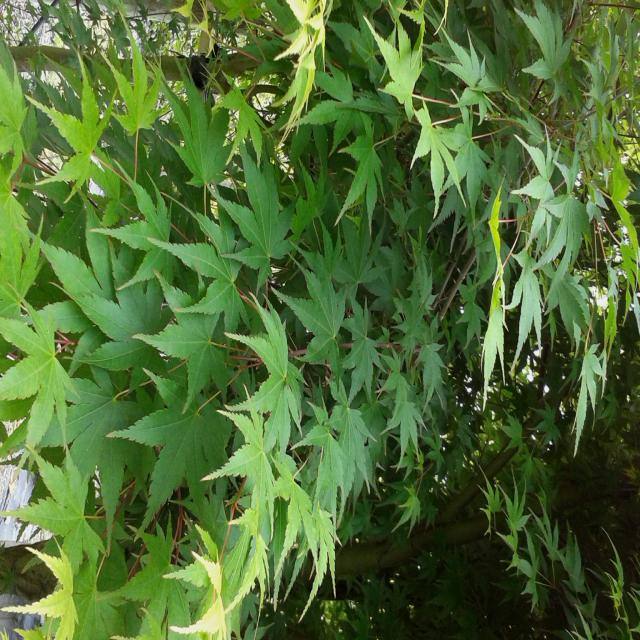Japanese Maple: (8, 5, 640, 640)
